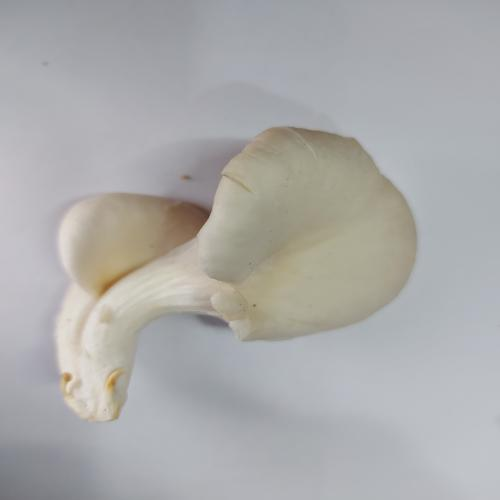Oyster Mushroom: (53, 125, 419, 423)
